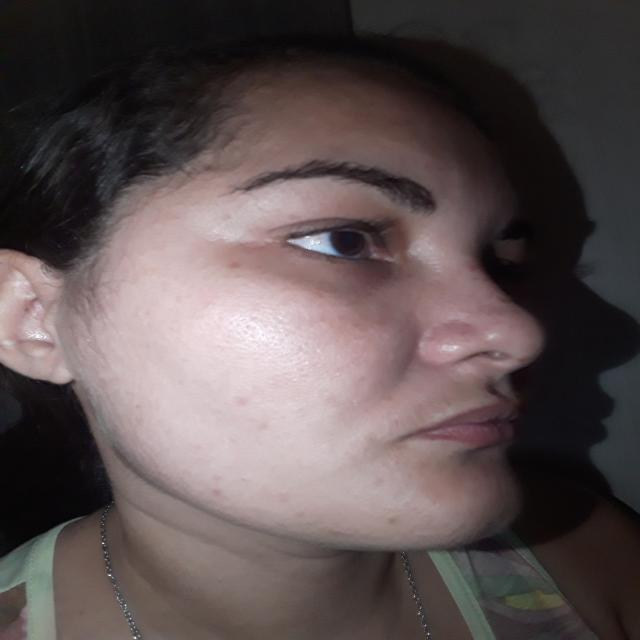Acne: (382, 509, 402, 526), (204, 486, 230, 498), (366, 473, 384, 490), (232, 394, 253, 408), (255, 420, 273, 436), (209, 469, 228, 482), (217, 211, 234, 224), (228, 257, 242, 268), (470, 262, 482, 274)
Englarged-Pores: (222, 308, 318, 372)
